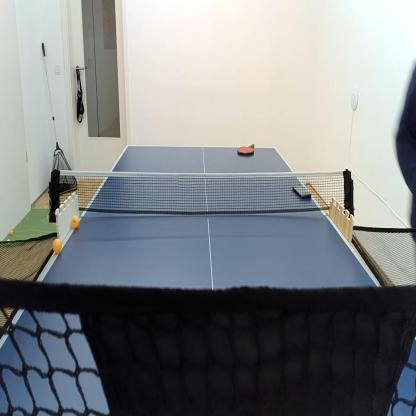Ball: (53, 238, 61, 254), (72, 215, 78, 227), (10, 229, 13, 235), (8, 240, 11, 245)
